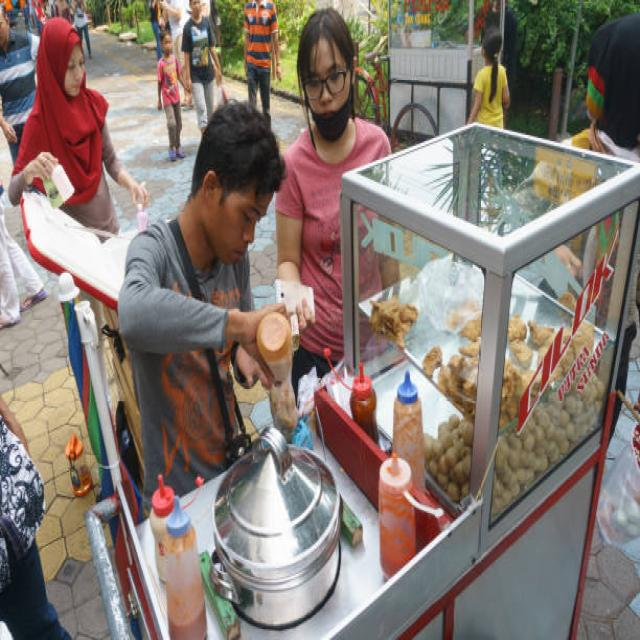Emperan: (83, 110, 640, 640)
